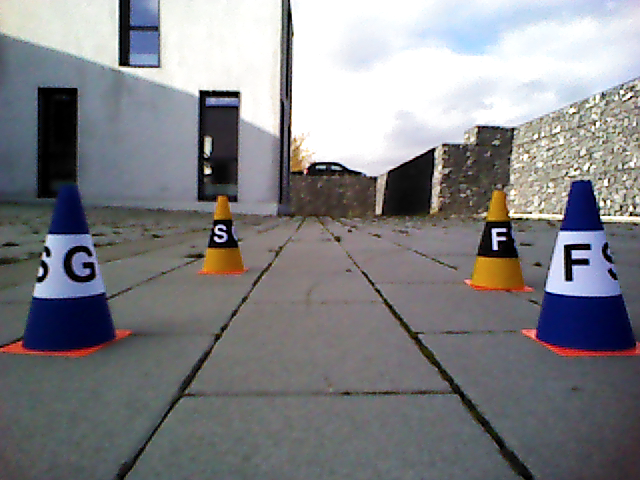bluecone: (540, 180, 637, 352), (20, 183, 114, 353)
yellowcone: (473, 190, 525, 289), (204, 195, 245, 271)
